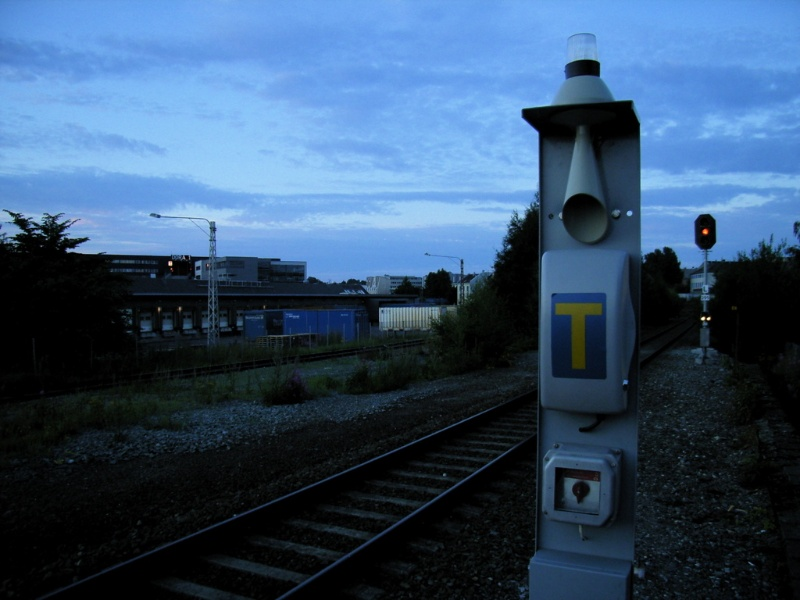red_light: (698, 216, 716, 253)
